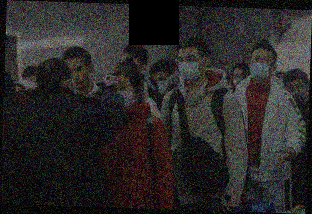with_mask: (177, 54, 204, 83), (112, 81, 137, 112), (249, 54, 275, 81), (286, 81, 307, 103), (149, 74, 170, 95), (19, 75, 37, 93), (232, 72, 244, 88)
without_mask: (68, 64, 89, 90)
